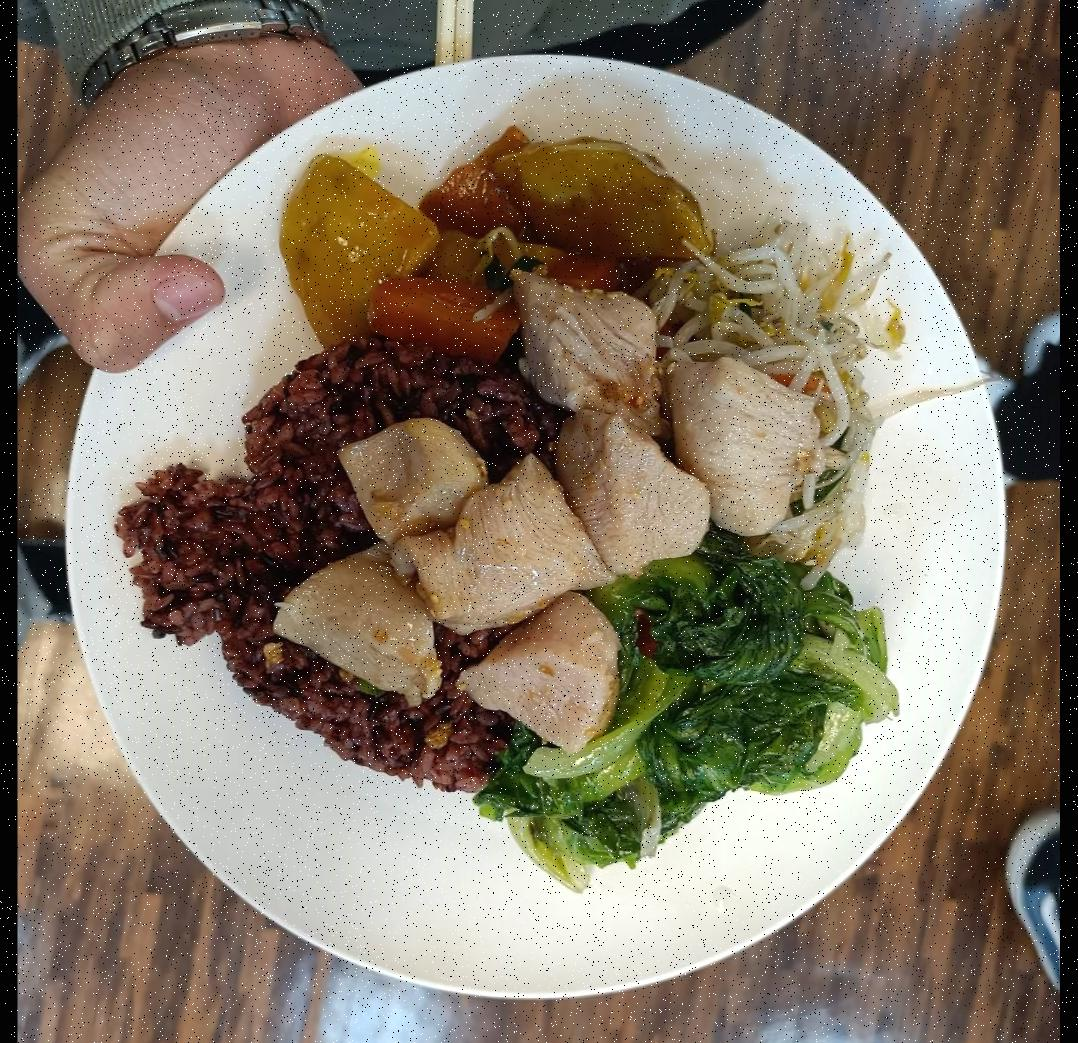plate: (62, 43, 1010, 1010)
purple rice: (112, 350, 578, 803)
scallion chicken: (274, 272, 828, 724)
side dish: (484, 544, 905, 885), (272, 118, 712, 358), (677, 236, 895, 543)
